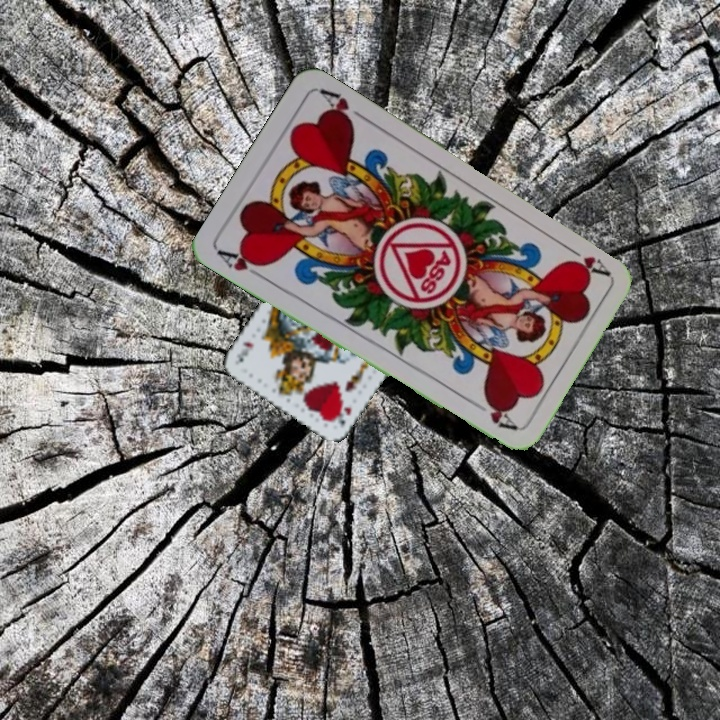HA: (559, 240, 613, 279), (214, 246, 269, 283)
HK: (330, 402, 354, 428)
